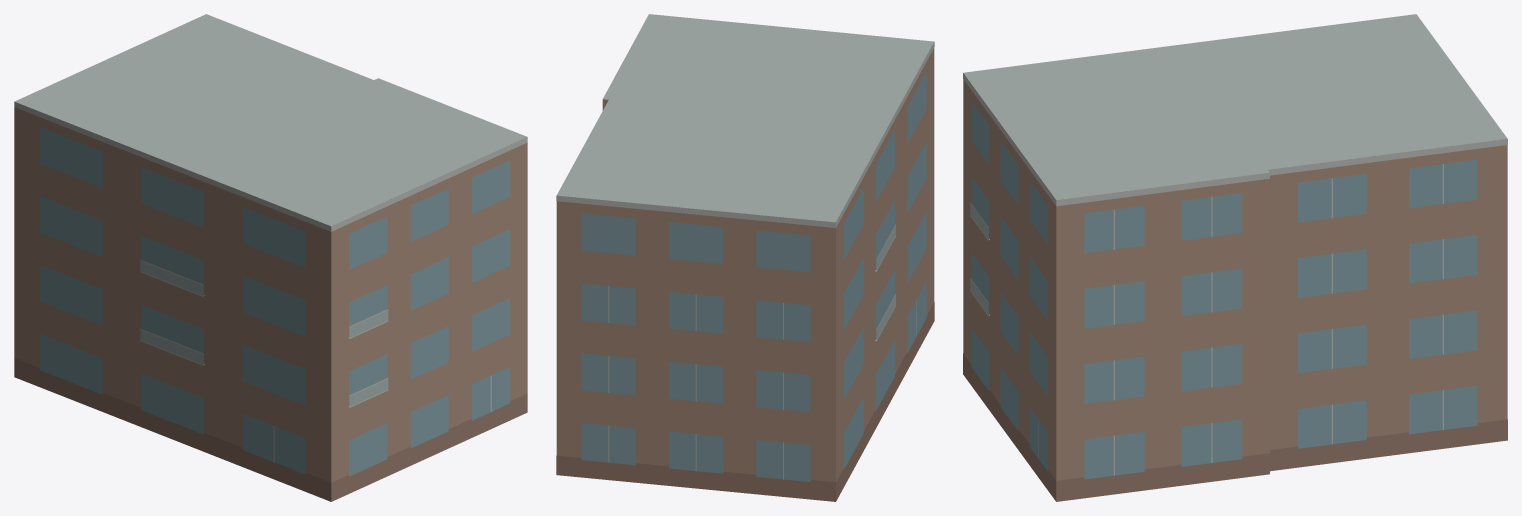
Rendered from survey-upis-32944484.glb.
The picture shows the model from 3 angles, left to right: view 1: azimuth 30°, elevation 25°; view 2: azimuth 150°, elevation 25°; view 3: azimuth 270°, elevation 25°; orthographic projection. The views are drawn at different scales.
Parts seen in each view (by area): view 1: survey-upis-32944484.tmp; view 2: survey-upis-32944484.tmp; view 3: survey-upis-32944484.tmp.
Part boxes in pixels (<box>): survey-upis-32944484.tmp: <box>14,14,527,501</box>; survey-upis-32944484.tmp: <box>556,14,934,501</box>; survey-upis-32944484.tmp: <box>963,14,1507,501</box>.
Bounding box in the file's own units: 16.17 × 12.2 × 19.98.
